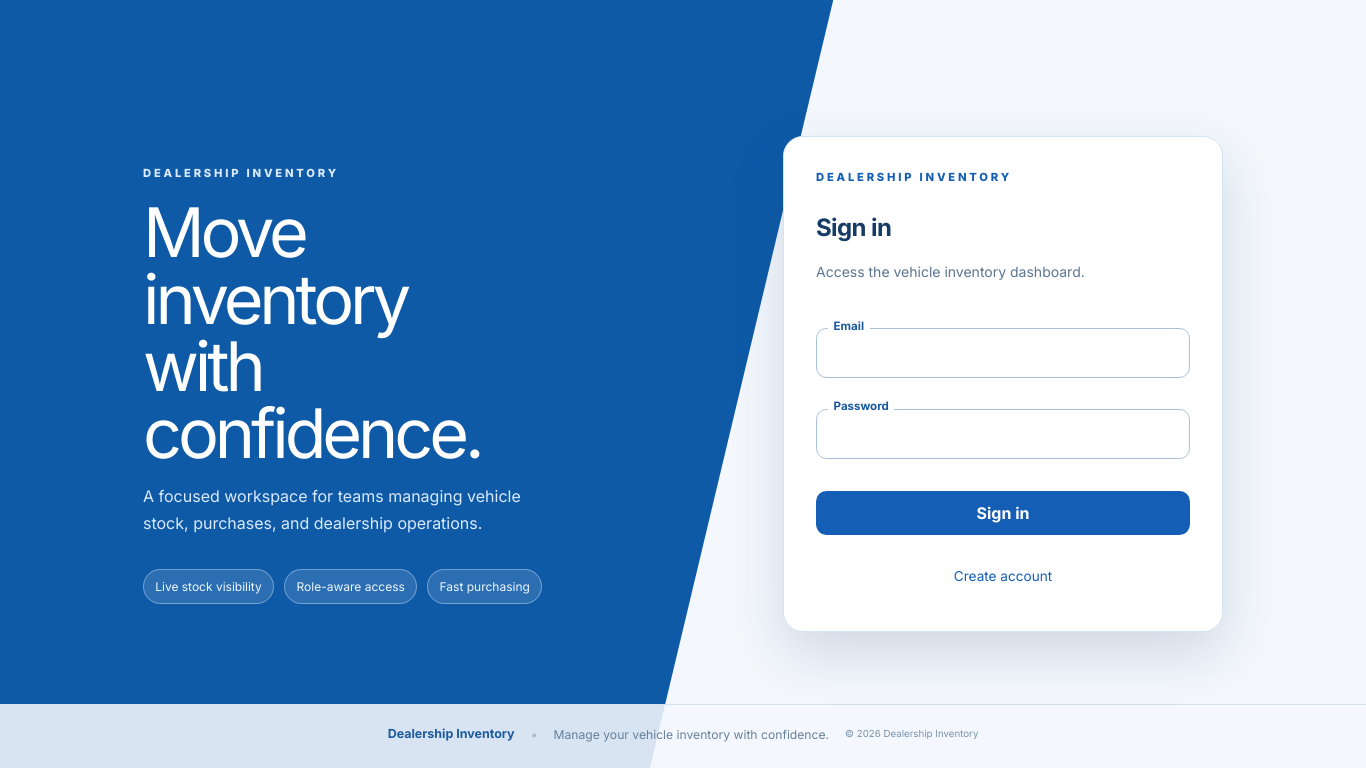
App › shows a clear message when the registration password is too short
Click the button "Create account" at (1003, 577), box [816, 555, 1190, 599]
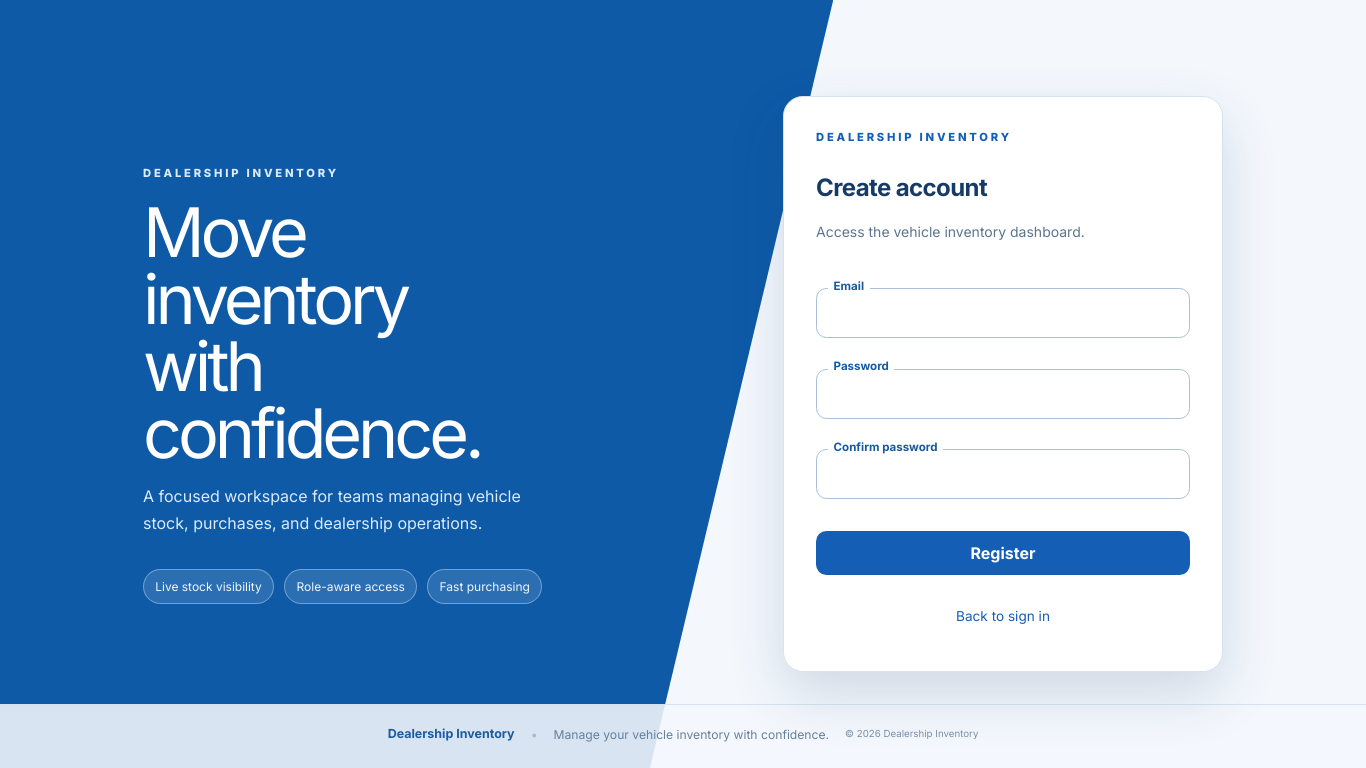
Type "new-user@example.com" into the field labelled "Email" at (1003, 314), box [816, 288, 1190, 338]
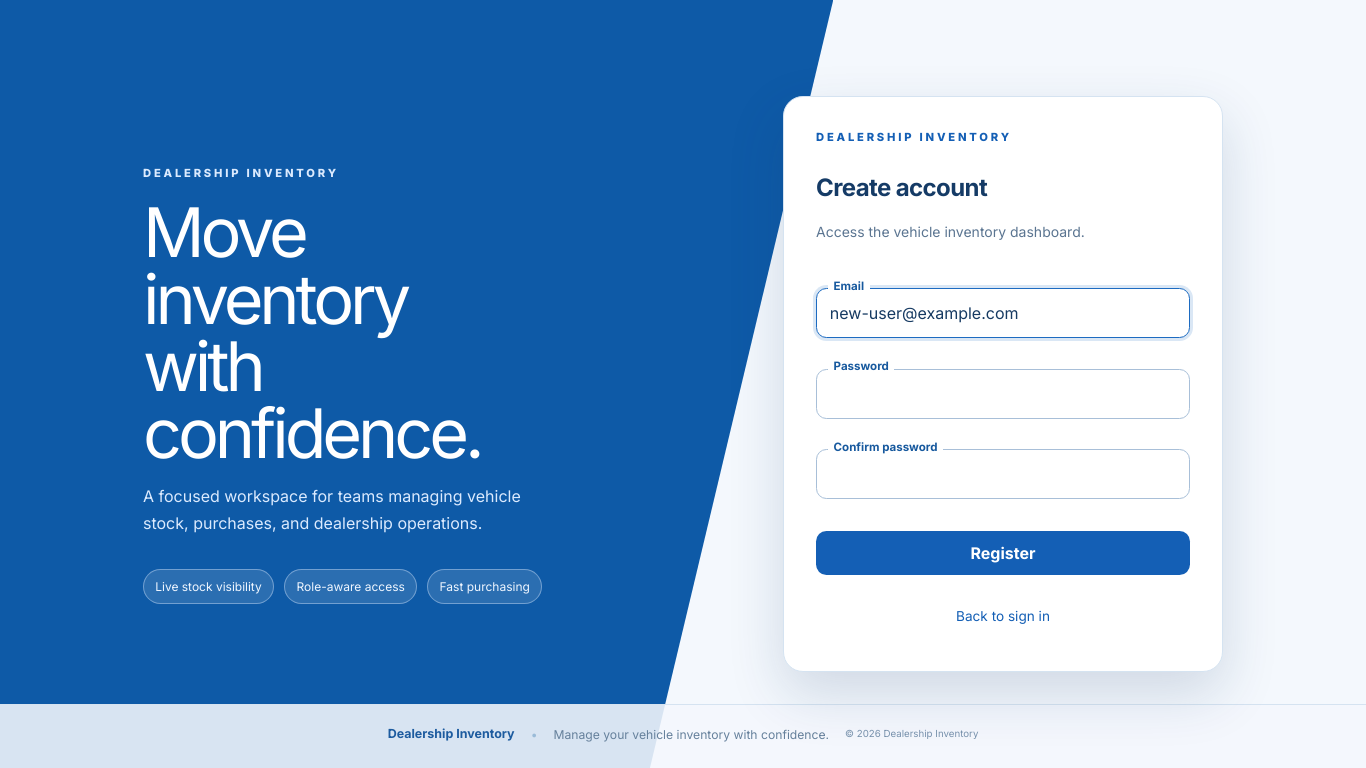
Type "short" into the password field labelled "Password" at (1003, 394), box [816, 368, 1190, 418]
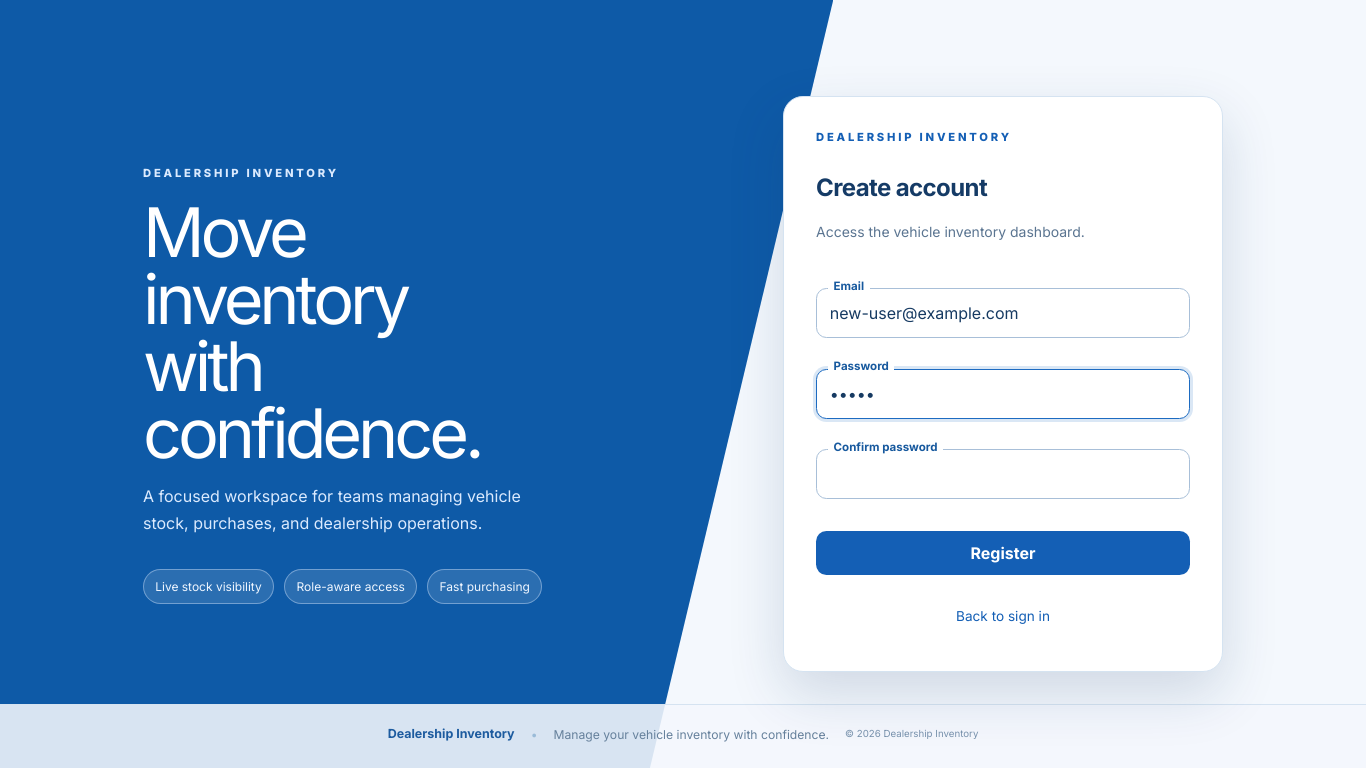
Type "short" into the password field labelled "Confirm password" at (1003, 474), box [816, 449, 1190, 499]
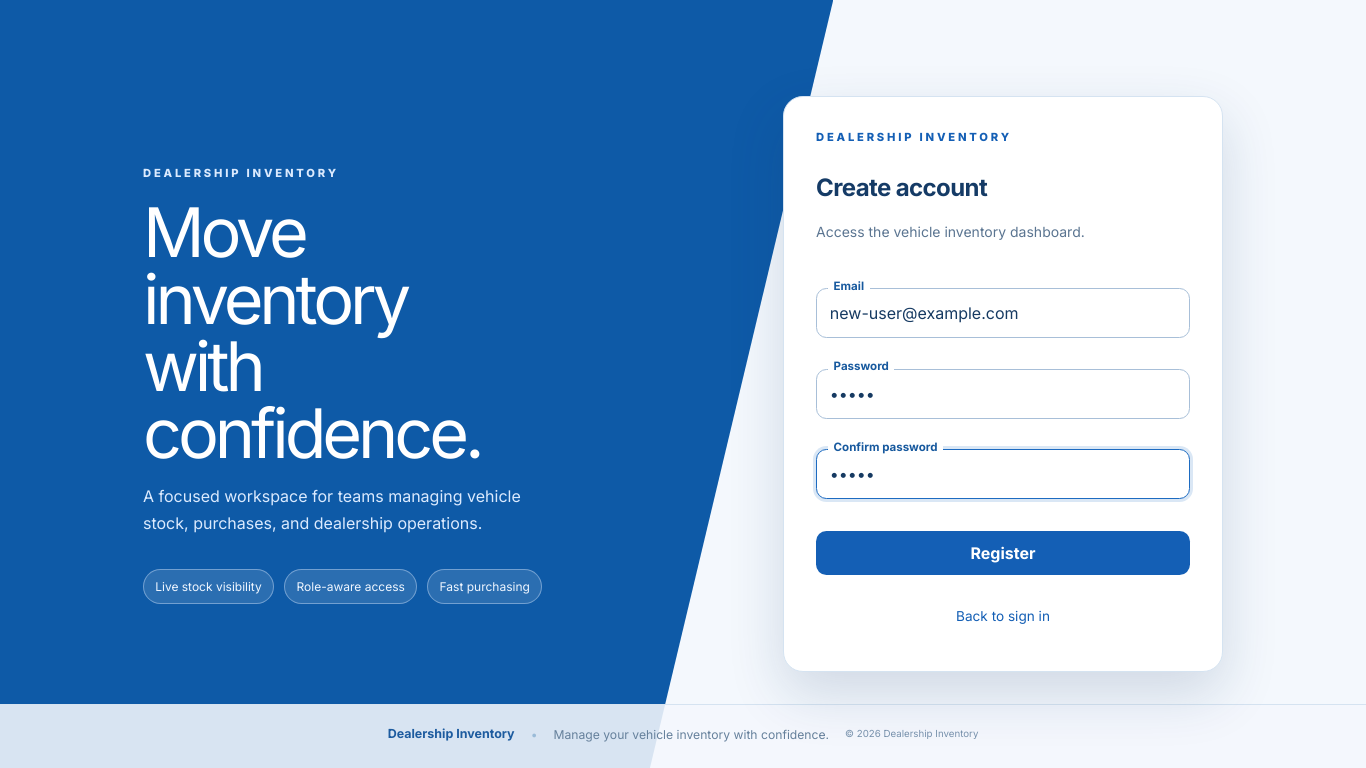
Click the button "Register" at (1003, 553), box [816, 531, 1190, 575]
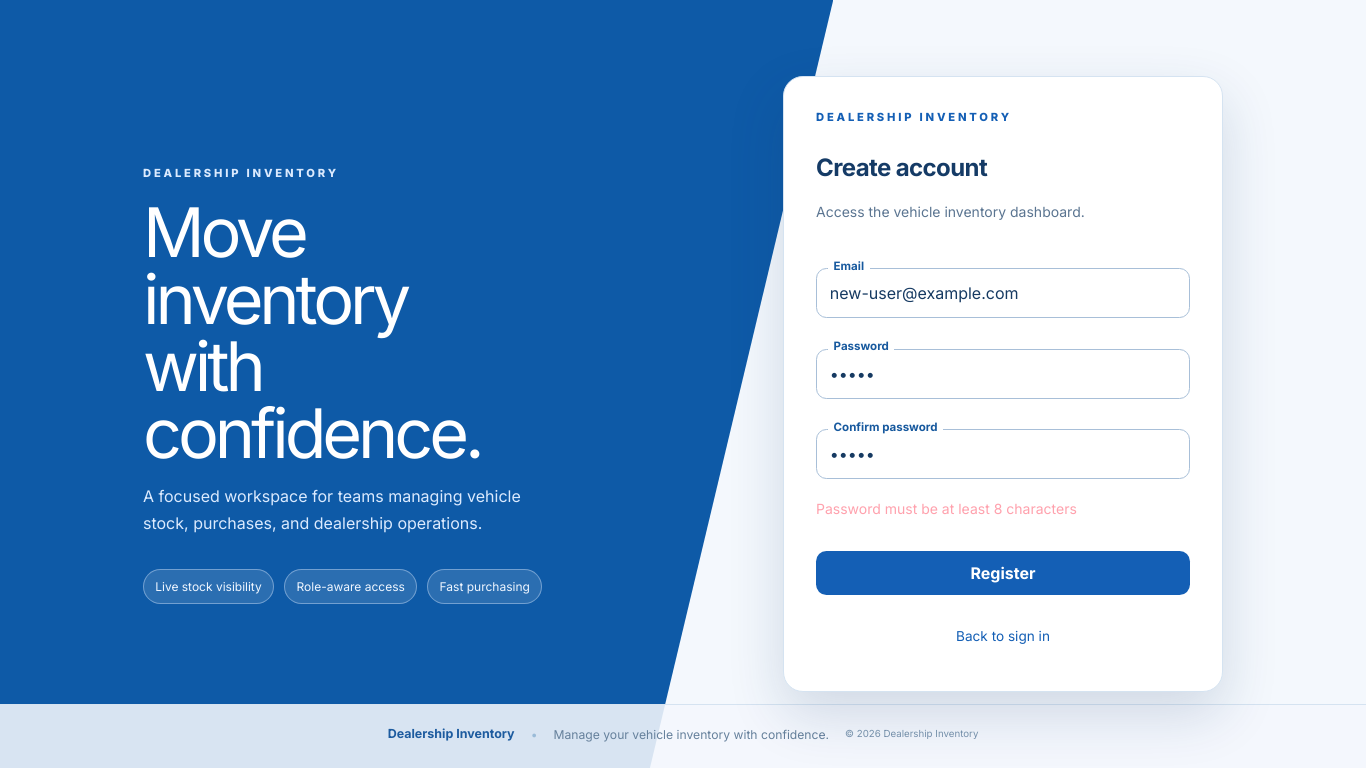
Check: the message reads "Password must be at least 8 characters", box [816, 500, 1077, 517]
